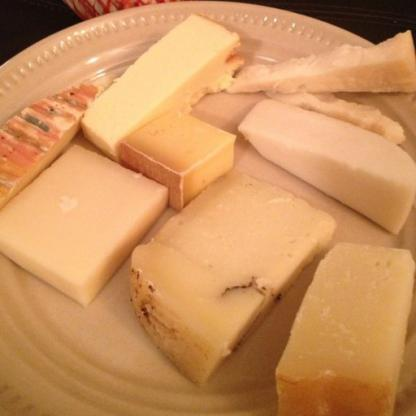parmesan cheese: (128, 172, 333, 384), (274, 241, 415, 416), (242, 98, 415, 239), (0, 146, 158, 299), (80, 12, 236, 143), (230, 32, 415, 96), (125, 114, 243, 206)
